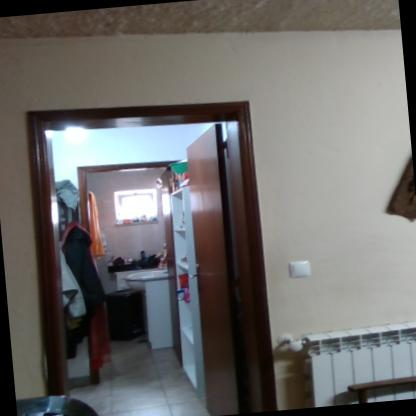open: (12, 71, 283, 407)
